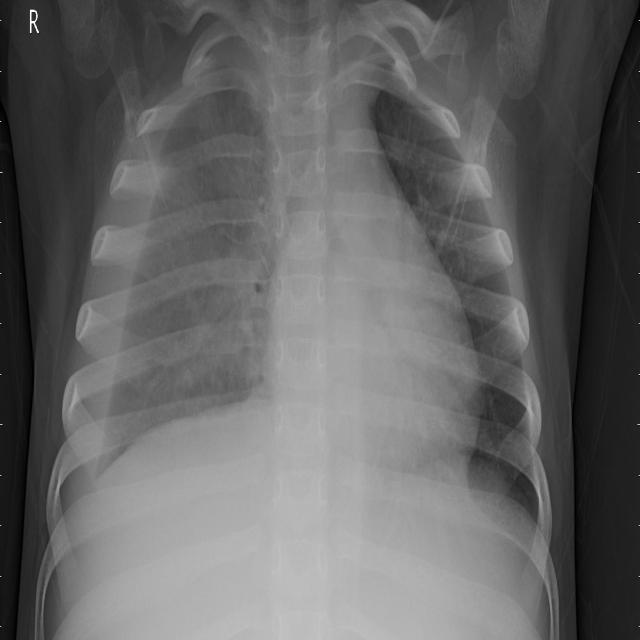low-pneumonia: (240, 130, 275, 344)
